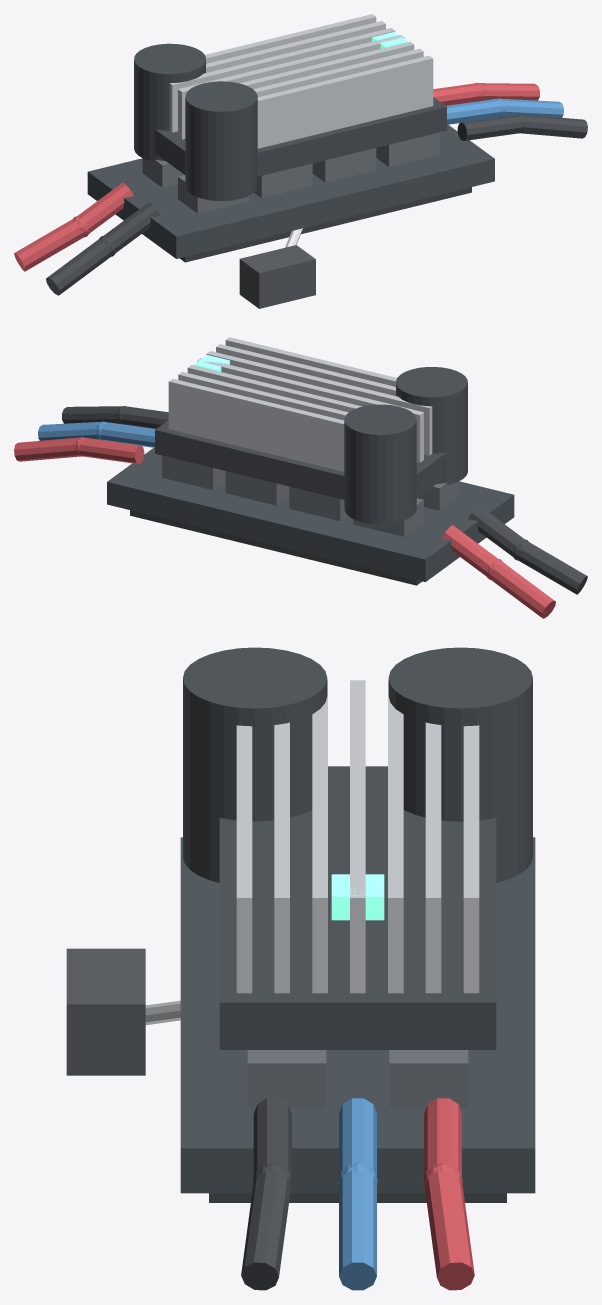
Rendered from esc_40a.glb.
3 renders of one model, top to bottom at view 1: azimuth 30°, elevation 25°; view 2: azimuth 150°, elevation 25°; view 3: azimuth 270°, elevation 25°, orthographic. The views are drawn at different scales.
Parts seen in each view (by area): view 1: pcb, fin_6, cap_2, heatsink_base, cap_1, servo_plug, fin_2, fin_3, fin_1, bottom_pad, fin_0, fin_5 (+16 smaller); view 2: pcb, fin_0, cap_1, heatsink_base, cap_2, fin_4, fin_3, bottom_pad, fin_5, fin_6, fin_2, fin_1 (+15 smaller); view 3: heatsink_base, pcb, cap_1, cap_2, servo_plug, fin_3, fin_2, fin_4, fin_1, fin_0, fin_6, mosfet_3_0 (+10 smaller).
Part boxes in pixels (<box>): pcb: <box>87,124,494,258</box>; fin_6: <box>257,55,433,148</box>; cap_2: <box>185,81,257,200</box>; heatsink_base: <box>155,97,446,176</box>; cap_1: <box>134,43,205,161</box>; servo_plug: <box>239,245,315,308</box>; fin_2: <box>169,28,395,132</box>; fin_3: <box>178,35,404,139</box>; fin_1: <box>206,21,385,72</box>; bottom_pad: <box>180,187,471,262</box>; fin_0: <box>205,14,376,63</box>; fin_5: <box>253,48,423,97</box>; pcb: <box>107,448,514,581</box>; fin_0: <box>168,379,344,471</box>; cap_1: <box>344,404,416,524</box>; heatsink_base: <box>155,420,446,499</box>; cap_2: <box>396,367,467,484</box>; fin_4: <box>206,351,432,455</box>; fin_3: <box>197,358,423,462</box>; bottom_pad: <box>130,510,421,585</box>; fin_5: <box>216,344,395,395</box>; fin_6: <box>225,337,396,386</box>; fin_2: <box>187,365,362,412</box>; fin_1: <box>178,371,348,420</box>; heatsink_base: <box>219,766,496,1049</box>; pcb: <box>180,837,535,1193</box>; cap_1: <box>388,647,532,882</box>; cap_2: <box>183,647,327,882</box>; servo_plug: <box>66,948,145,1075</box>; fin_3: <box>350,680,365,993</box>; fin_2: <box>388,680,403,993</box>; fin_4: <box>312,680,327,993</box>; fin_1: <box>425,722,441,993</box>; fin_0: <box>463,725,479,993</box>; fin_6: <box>236,725,252,993</box>; mosfet_3_0: <box>389,1050,468,1108</box>.
Size of the model in its own units: 0.0929 by 0.0295 by 0.0357.
